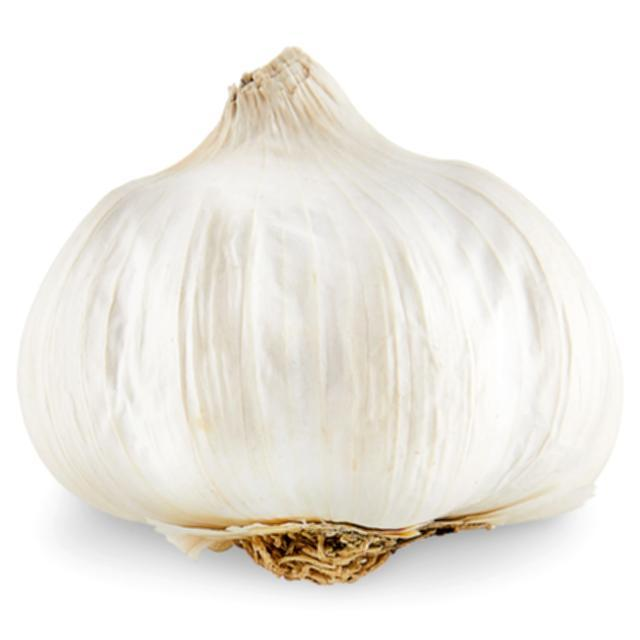garlic: (19, 49, 621, 583)
